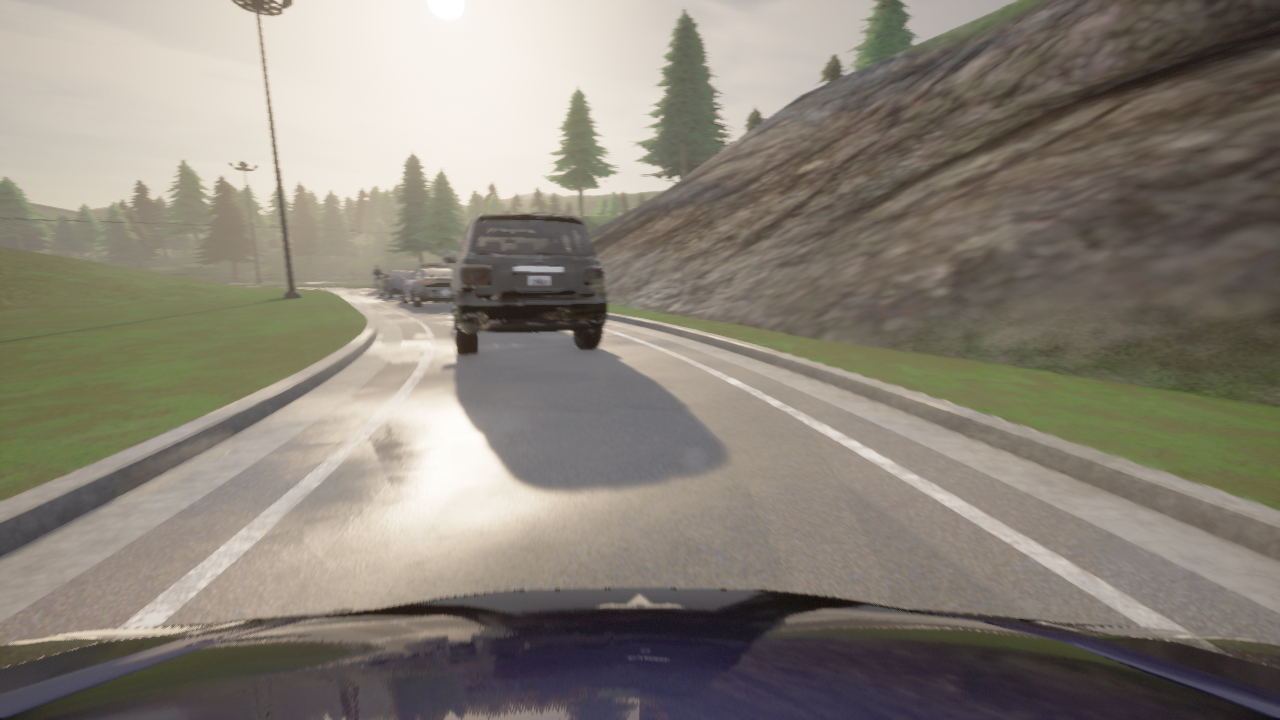cyclist: (0, 588, 1279, 719), (442, 213, 606, 355), (400, 265, 452, 308), (377, 270, 412, 298), (375, 280, 379, 289)
